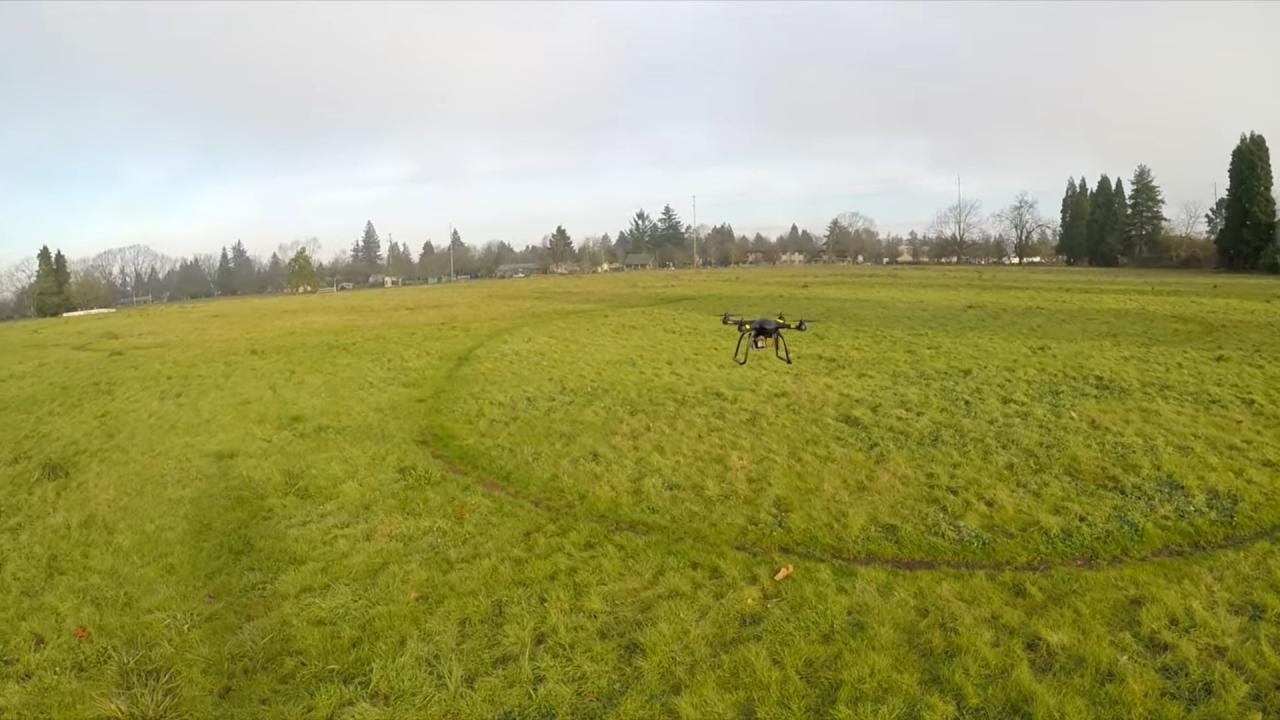Drone: (708, 299, 826, 378)
